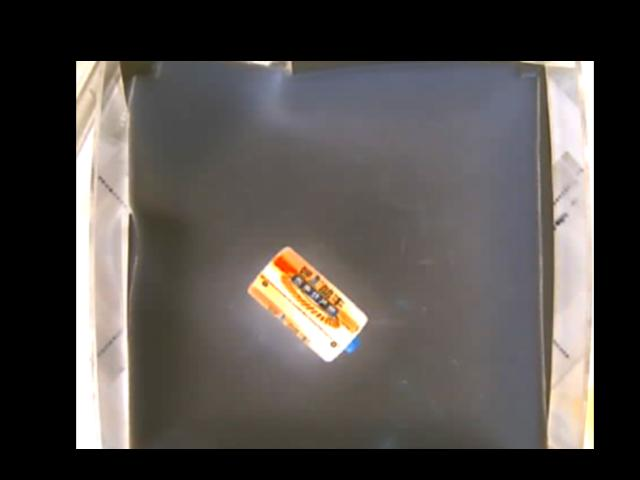Battery: (247, 246, 368, 362)
